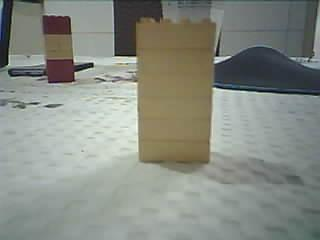lego: (134, 16, 216, 163), (41, 14, 74, 84)
